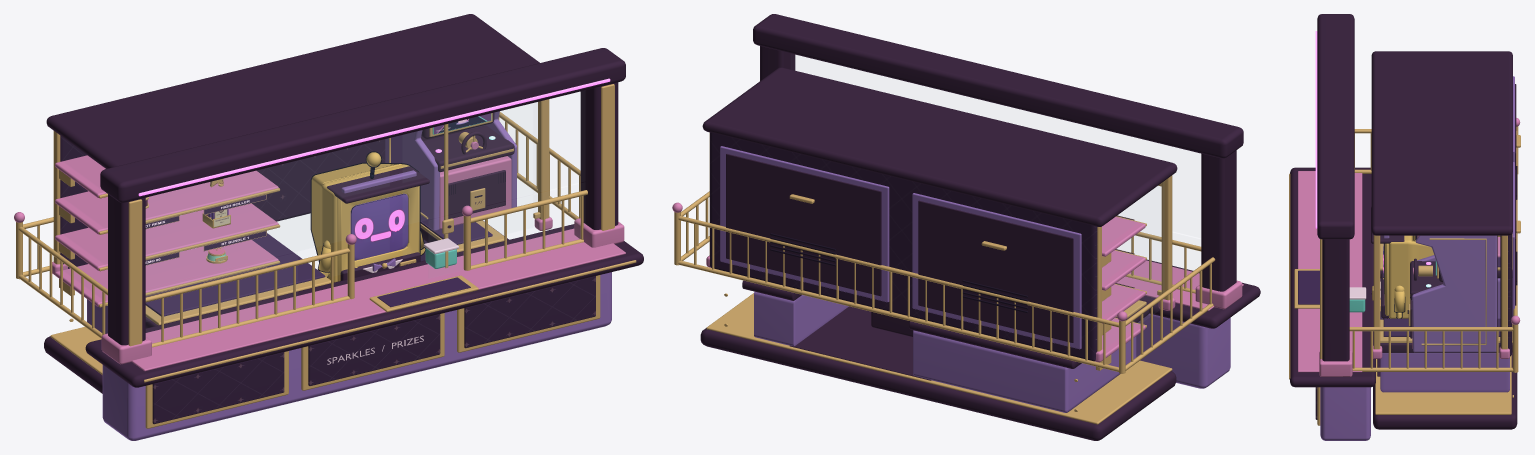
Rendered from counter.glb.
3 renders of one model, left to right at view 1: azimuth 30°, elevation 25°; view 2: azimuth 150°, elevation 25°; view 3: azimuth 270°, elevation 25°, orthographic. The views are drawn at different scales.
Parts seen in each view (by area): view 1: attendant_step, perimeter_finial, display_back, attendant_parcel_ribbon, perimeter_picket, counter_base_left, display_floor_left, bezel, arcade_side, EMI_glass, attendant_visor, cap_rose_edge (+2 smaller); view 2: attendant_step, counter_base_left, display_back, perimeter_picket, attendant_parcel_ribbon, perimeter_finial, arcade_marquee_face; view 3: attendant_step, arcade_side, counter_base_left, attendant_parcel_ribbon, perimeter_finial, perimeter_picket, bezel, display_floor_left, display_back, cap_rose_edge, attendant_visor, armR (+1 smaller).
Part boxes in pixels (x1=…): attendant_step: x1=44, y1=14, x2=643, y2=393; perimeter_finial: x1=14, y1=141, x2=625, y2=371; display_back: x1=60, y1=135, x2=595, y2=424; attendant_parcel_ribbon: x1=50, y1=84, x2=636, y2=428; perimeter_picket: x1=16, y1=112, x2=587, y2=347; counter_base_left: x1=87, y1=240, x2=611, y2=440; display_floor_left: x1=145, y1=222, x2=492, y2=316; bezel: x1=310, y1=162, x2=420, y2=282; arcade_side: x1=385, y1=111, x2=517, y2=231; EMI_glass: x1=350, y1=193, x2=408, y2=260; attendant_visor: x1=327, y1=166, x2=429, y2=280; cap_rose_edge: x1=138, y1=78, x2=610, y2=196; attendant_step: x1=700, y1=14, x2=1260, y2=440; counter_base_left: x1=720, y1=146, x2=1230, y2=412; display_back: x1=710, y1=132, x2=1097, y2=361; perimeter_picket: x1=674, y1=191, x2=1215, y2=373; attendant_parcel_ribbon: x1=706, y1=132, x2=1172, y2=424; perimeter_finial: x1=672, y1=202, x2=1243, y2=362; arcade_marquee_face: x1=770, y1=233, x2=1027, y2=313; attendant_step: x1=1290, y1=14, x2=1517, y2=429; arcade_side: x1=1412, y1=235, x2=1496, y2=352; counter_base_left: x1=1320, y1=76, x2=1514, y2=440; attendant_parcel_ribbon: x1=1289, y1=135, x2=1520, y2=425; perimeter_finial: x1=1298, y1=118, x2=1520, y2=376; perimeter_picket: x1=1349, y1=126, x2=1518, y2=372; bezel: x1=1383, y1=235, x2=1433, y2=318; display_floor_left: x1=1298, y1=257, x2=1500, y2=336; display_back: x1=1315, y1=234, x2=1511, y2=419; cap_rose_edge: x1=1315, y1=31, x2=1431, y2=264; attendant_visor: x1=1371, y1=207, x2=1404, y2=318; armR: x1=1394, y1=285, x2=1405, y2=318.
Bounding box in the file's own units: 5.16 × 2.54 × 2.37.
Materials: 38 (5 with a texture image).
